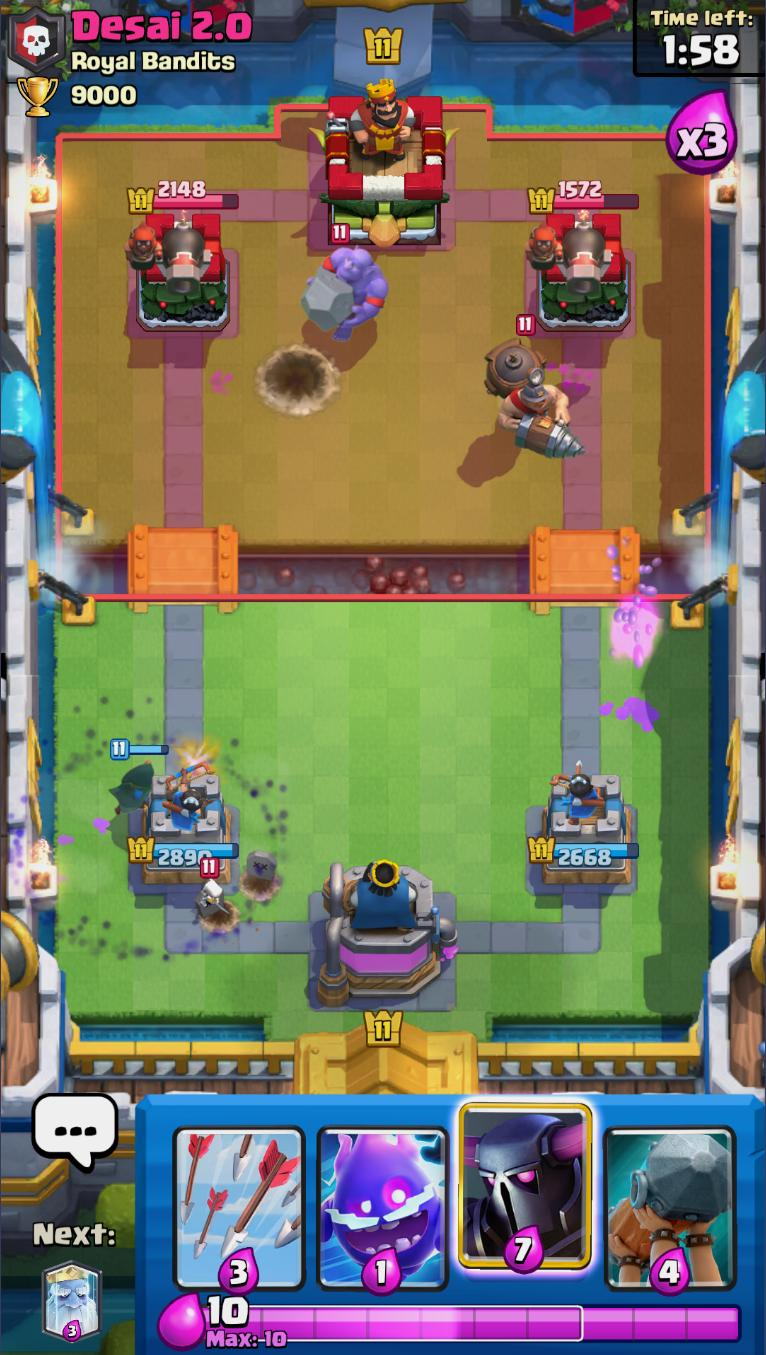ArrowDeck: (168, 1094, 311, 1295)
Bowler: (300, 223, 391, 342)
Cannoneer: (526, 212, 607, 298), (124, 214, 207, 297)
ElectroSpiritDeck: (310, 1094, 456, 1295)
Elixir: (200, 1296, 745, 1350)
EnemyTower: (524, 209, 633, 333), (125, 207, 231, 332)
KingTower: (310, 81, 461, 249)
MightyMiner: (482, 314, 586, 459)
MyBandit: (107, 741, 168, 822)
MyBattleRam: (600, 1095, 740, 1295)
MyKingTower: (314, 855, 460, 1007)
MyPrincessTower: (527, 770, 641, 886), (128, 773, 242, 888)
MyPrincessTowerHP: (127, 836, 240, 867), (527, 837, 640, 866)
PekkaDeck: (456, 1095, 601, 1295)
RoyaleGhostNext: (40, 1264, 105, 1341)
Skeleton: (197, 858, 223, 910)
TowerPrincessHP: (127, 178, 240, 212), (529, 179, 641, 211)
